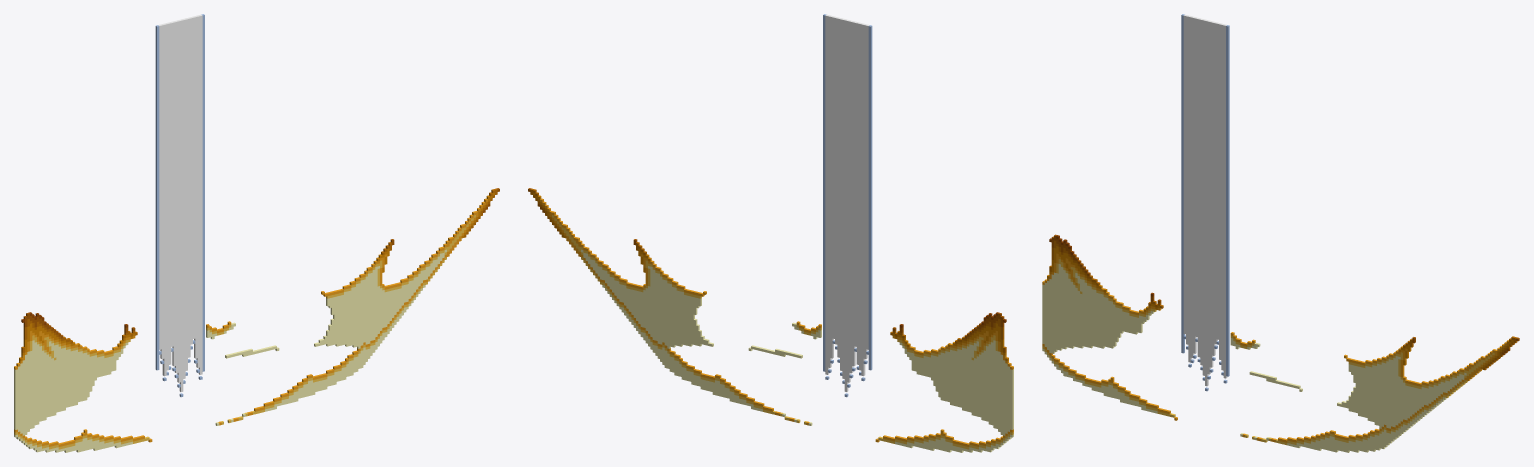
Rendered from Fight_757_2_08_fx.obj.
3 renders of one model, left to right at view 1: azimuth 30°, elevation 25°; view 2: azimuth 150°, elevation 25°; view 3: azimuth 330°, elevation 25°, orthographic.
Bounding box in the file's own units: 20.2 × 16.5 × 0.1.
